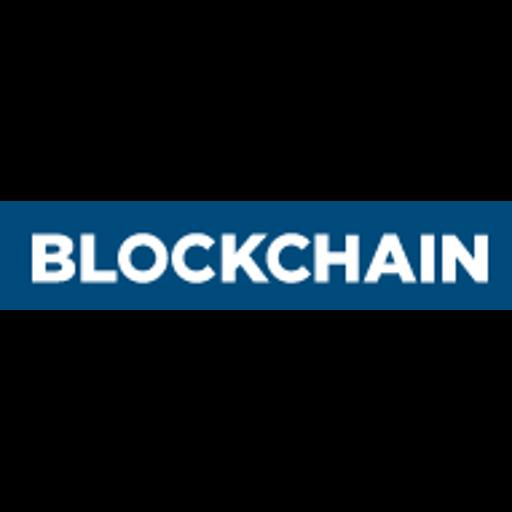Blockchain: (0, 201, 512, 310)
